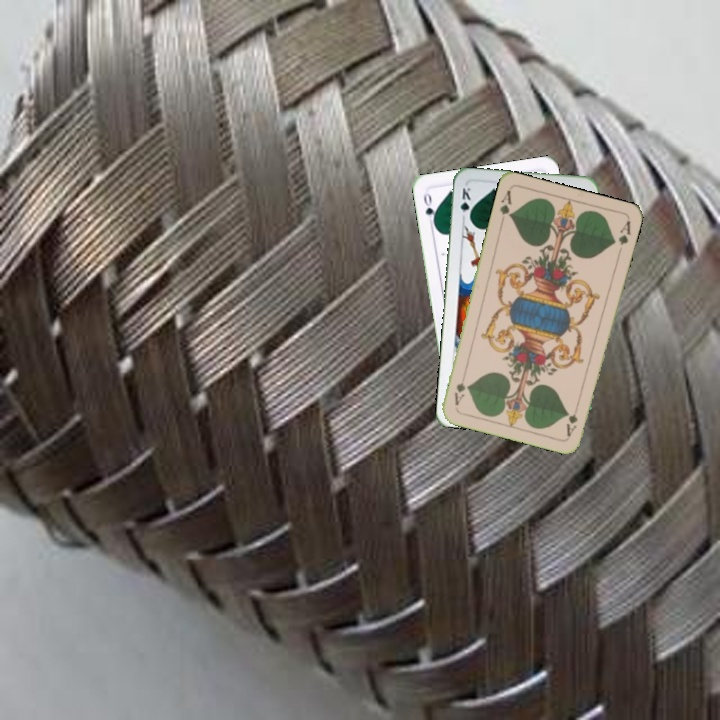GA: (562, 399, 581, 439), (496, 186, 514, 226)
GK: (456, 184, 473, 223)
GO: (419, 188, 439, 229)
